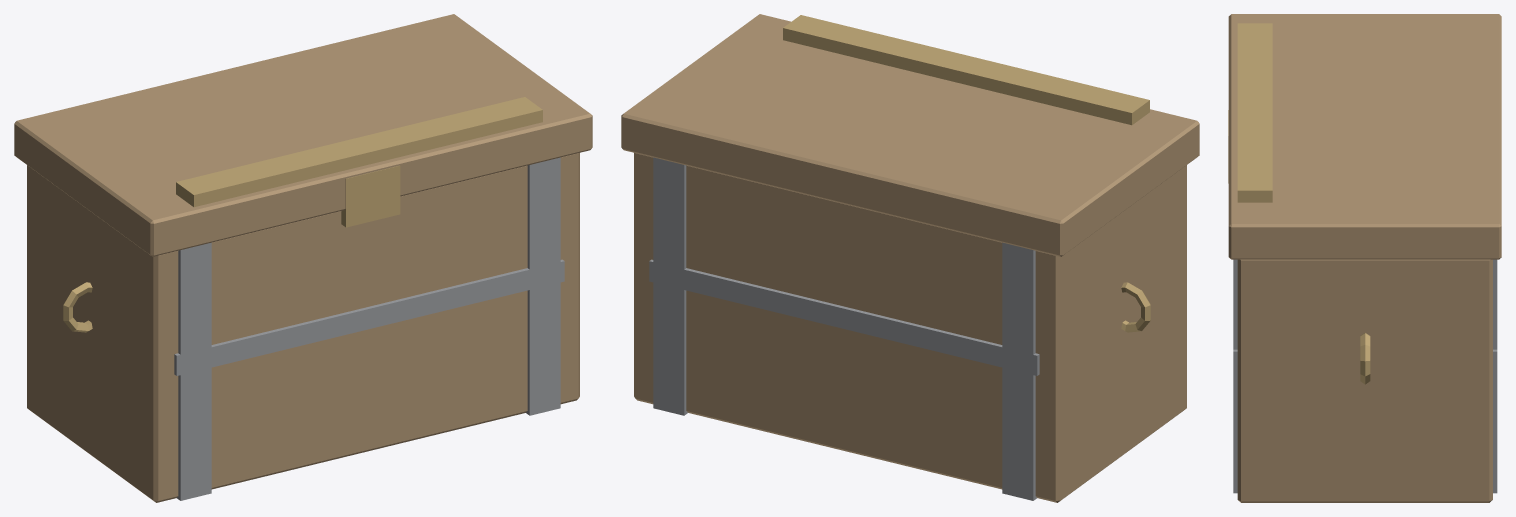
The model's file is roman-bathhouse-and-palaestra-bathhouse-storage-chest-b4f2e750__37898.glb.
The picture shows the model from 3 angles, left to right: view 1: azimuth 30°, elevation 25°; view 2: azimuth 150°, elevation 25°; view 3: azimuth 270°, elevation 25°; orthographic projection.
Visible parts, largest first — view 1: bathhouse-storage-chest, chest-lid/timber, chest-lid/bronze; view 2: bathhouse-storage-chest, chest-lid/timber, chest-lid/bronze; view 3: bathhouse-storage-chest, chest-lid/timber, chest-lid/bronze.
Boxes of the visible parts, x1=… form: bathhouse-storage-chest: x1=27, y1=153, x2=579, y2=502; chest-lid/timber: x1=14, y1=14, x2=592, y2=256; chest-lid/bronze: x1=176, y1=97, x2=542, y2=207; bathhouse-storage-chest: x1=634, y1=153, x2=1186, y2=502; chest-lid/timber: x1=621, y1=14, x2=1199, y2=256; chest-lid/bronze: x1=783, y1=15, x2=1149, y2=125; bathhouse-storage-chest: x1=1228, y1=110, x2=1497, y2=502; chest-lid/timber: x1=1228, y1=14, x2=1501, y2=259; chest-lid/bronze: x1=1237, y1=23, x2=1272, y2=202.
Bounding box in the file's own units: 1.24 × 0.74 × 0.6213.
